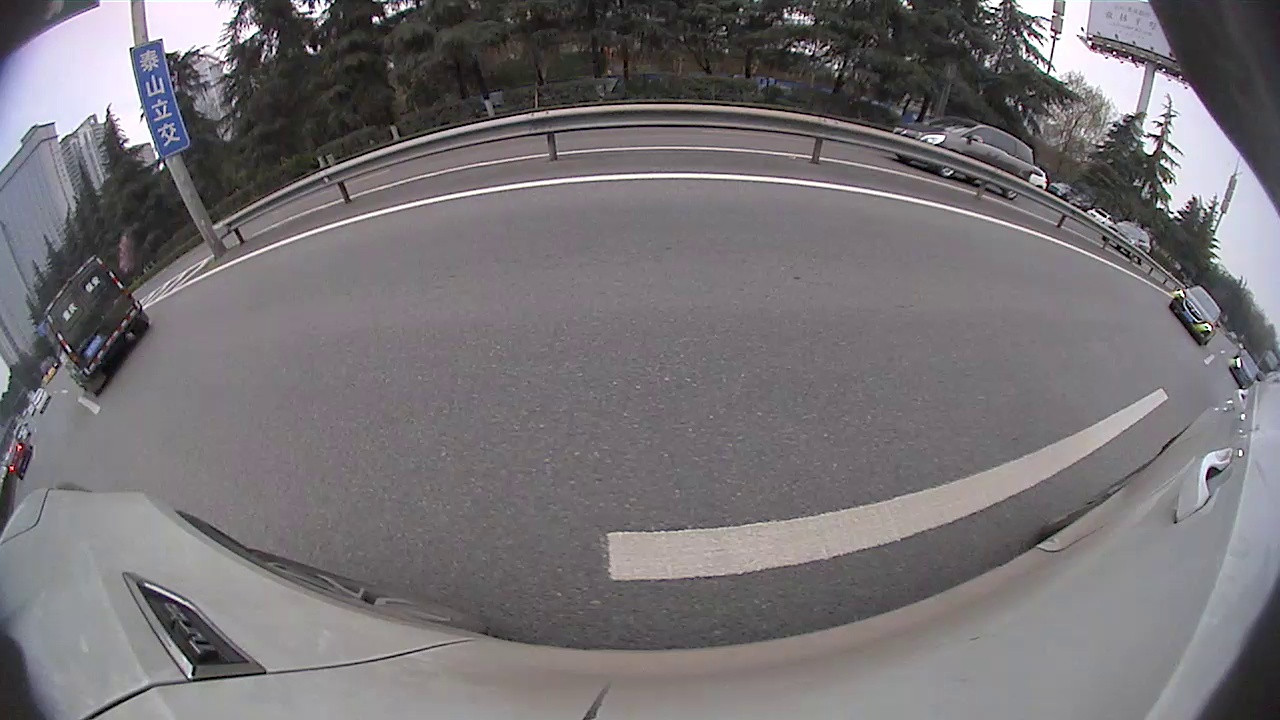car: (42, 253, 152, 399), (896, 115, 1037, 202), (1168, 282, 1223, 348), (1101, 220, 1153, 264), (1228, 354, 1261, 390)
front: (938, 153, 959, 177)
rear: (1003, 180, 1021, 199)
